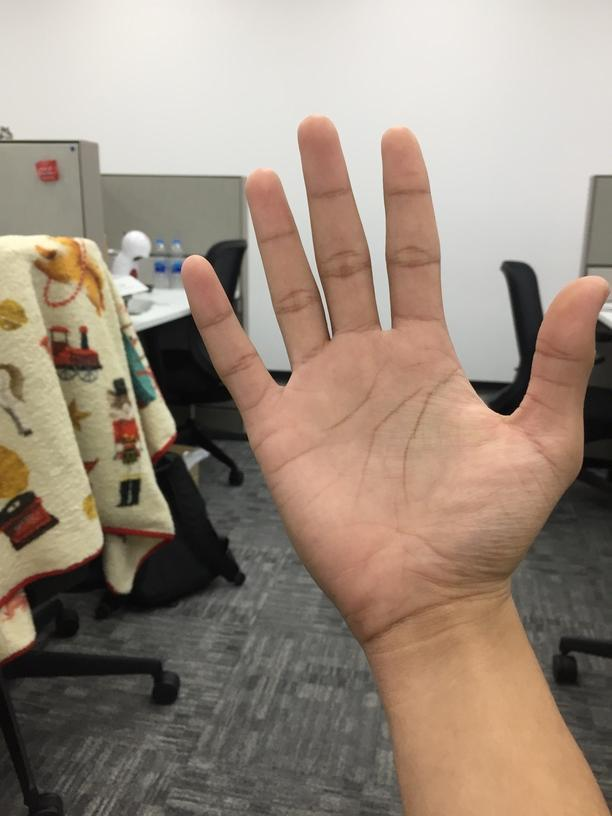hand: (179, 113, 612, 633)
